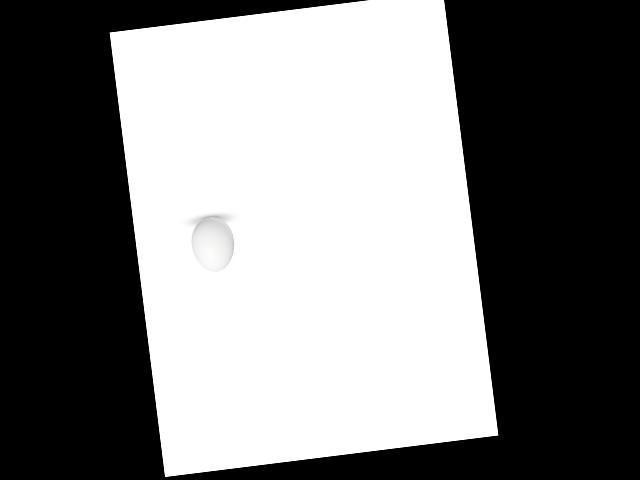egg: (188, 215, 236, 274)
